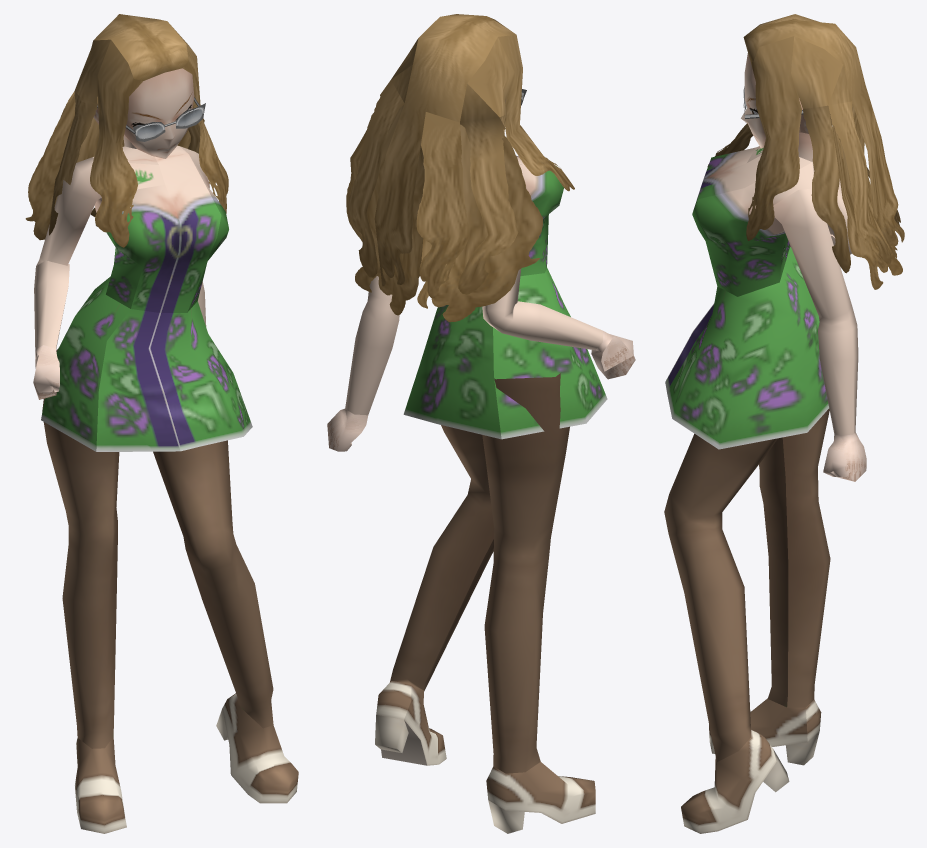
The model's file is Evergreen.obj.
3 renders of one model, left to right at view 1: azimuth 30°, elevation 25°; view 2: azimuth 150°, elevation 25°; view 3: azimuth 270°, elevation 25°, orthographic. The views are drawn at different scales.
Visible parts, largest first — view 1: _001_foot_00__001_foot_00.013, _000_body_00__000_body_00.016, _006_head_00__006_head_00.002, _005_head_00__005_head_00.011, _004_handR_01__004_handR_01.001, _002_glasses_00; view 2: _001_foot_00__001_foot_00.013, _006_head_00__006_head_00.002, _000_body_00__000_body_00.016, _004_handR_01__004_handR_01.001, _003_handL_01__003_handL_01.001; view 3: _001_foot_00__001_foot_00.013, _006_head_00__006_head_00.002, _000_body_00__000_body_00.016, _003_handL_01__003_handL_01.001, _005_head_00__005_head_00.011.
Boxes of the visible parts, box(x1,y1,x2,y2) form: _001_foot_00__001_foot_00.013: box(41, 276, 298, 833); _000_body_00__000_body_00.016: box(34, 135, 228, 349); _006_head_00__006_head_00.002: box(25, 14, 228, 247); _005_head_00__005_head_00.011: box(93, 68, 194, 158); _004_handR_01__004_handR_01.001: box(33, 345, 59, 399); _002_glasses_00: box(97, 97, 205, 141); _001_foot_00__001_foot_00.013: box(375, 268, 607, 833); _006_head_00__006_head_00.002: box(346, 14, 574, 322); _000_body_00__000_body_00.016: box(345, 155, 602, 415); _004_handR_01__004_handR_01.001: box(591, 331, 635, 379); _003_handL_01__003_handL_01.001: box(327, 408, 368, 451); _001_foot_00__001_foot_00.013: box(664, 247, 830, 833); _006_head_00__006_head_00.002: box(707, 14, 904, 289); _000_body_00__000_body_00.016: box(692, 133, 858, 435); _003_handL_01__003_handL_01.001: box(823, 432, 866, 481); _005_head_00__005_head_00.011: box(741, 53, 808, 148).
Size of the model in its own units: 0.514 by 1.53 by 0.4543.
6 materials, 6 textured.
